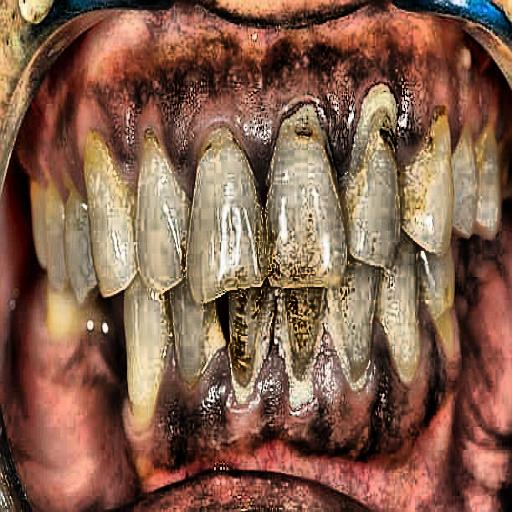Calculus: (22, 116, 500, 422)
